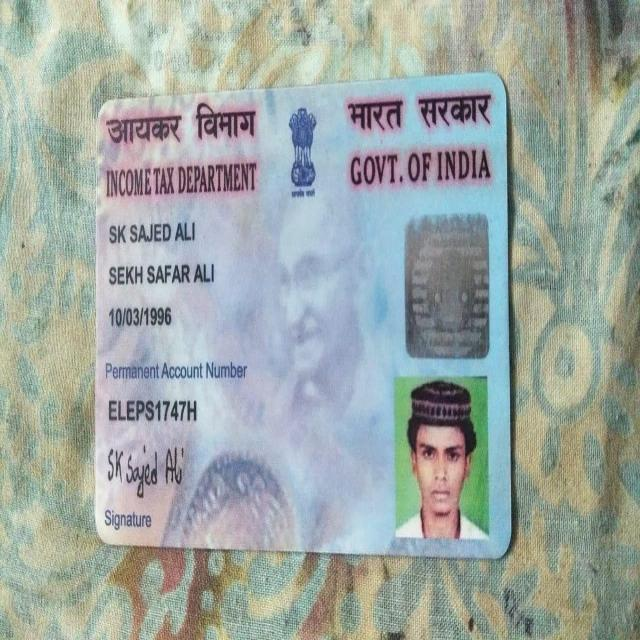pan_card: (99, 79, 512, 557)
